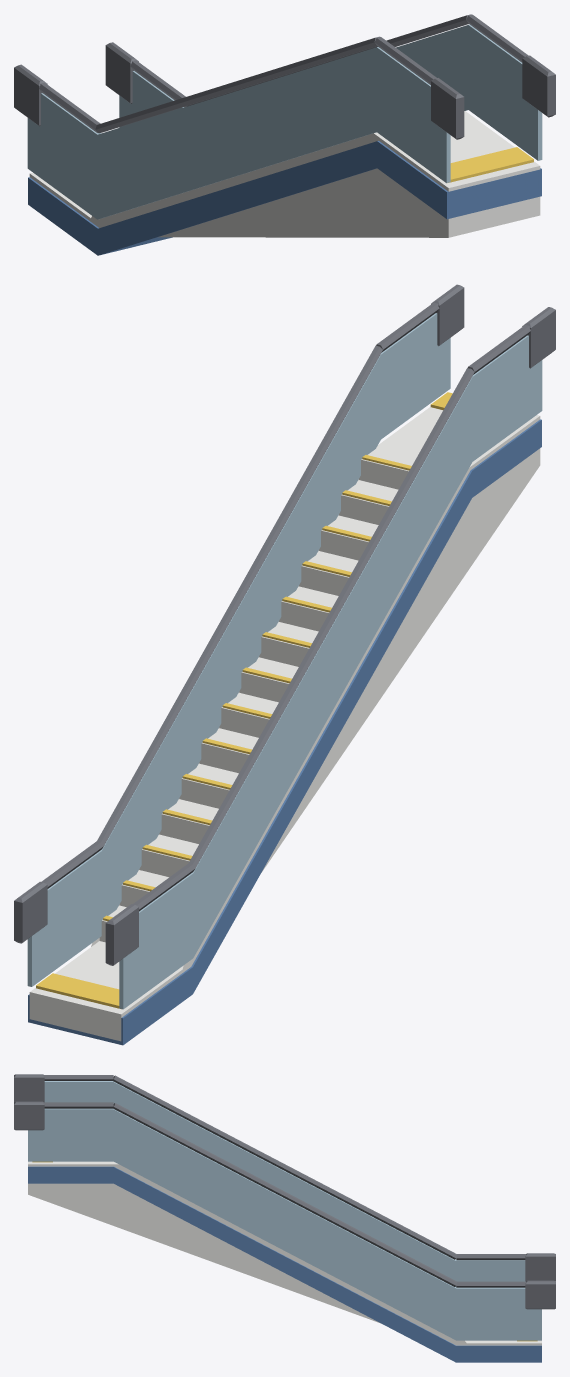
The model's file is airport-terminal-and-ground-operations-escalator-7639aa30__26050.glb.
3 views of the same model, one above another, from view 1: azimuth 30°, elevation 25°; view 2: azimuth 150°, elevation 25°; view 3: azimuth 270°, elevation 25° (orthographic). The views are drawn at different scales.
Parts seen in each view (by area): view 1: escalator; view 2: escalator; view 3: escalator.
Boxes of the visible parts, x1=… form: escalator: x1=14, y1=14, x2=555, y2=255; escalator: x1=14, y1=284, x2=555, y2=1045; escalator: x1=14, y1=1074, x2=555, y2=1362.
Size of the model in its own units: 1.16 by 4.69 by 8.86.
